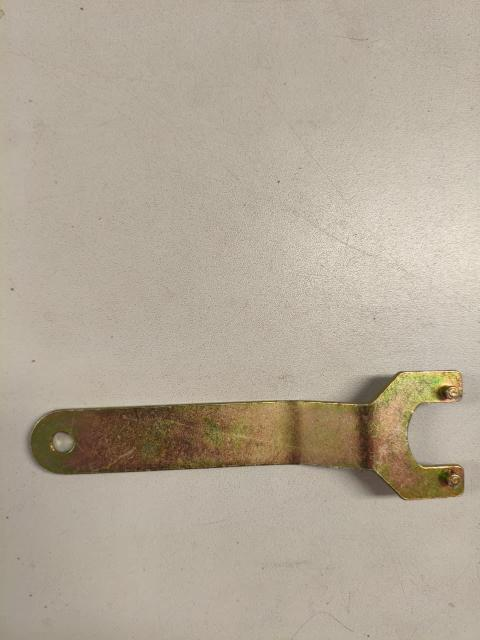Metal: (23, 365, 465, 502)
